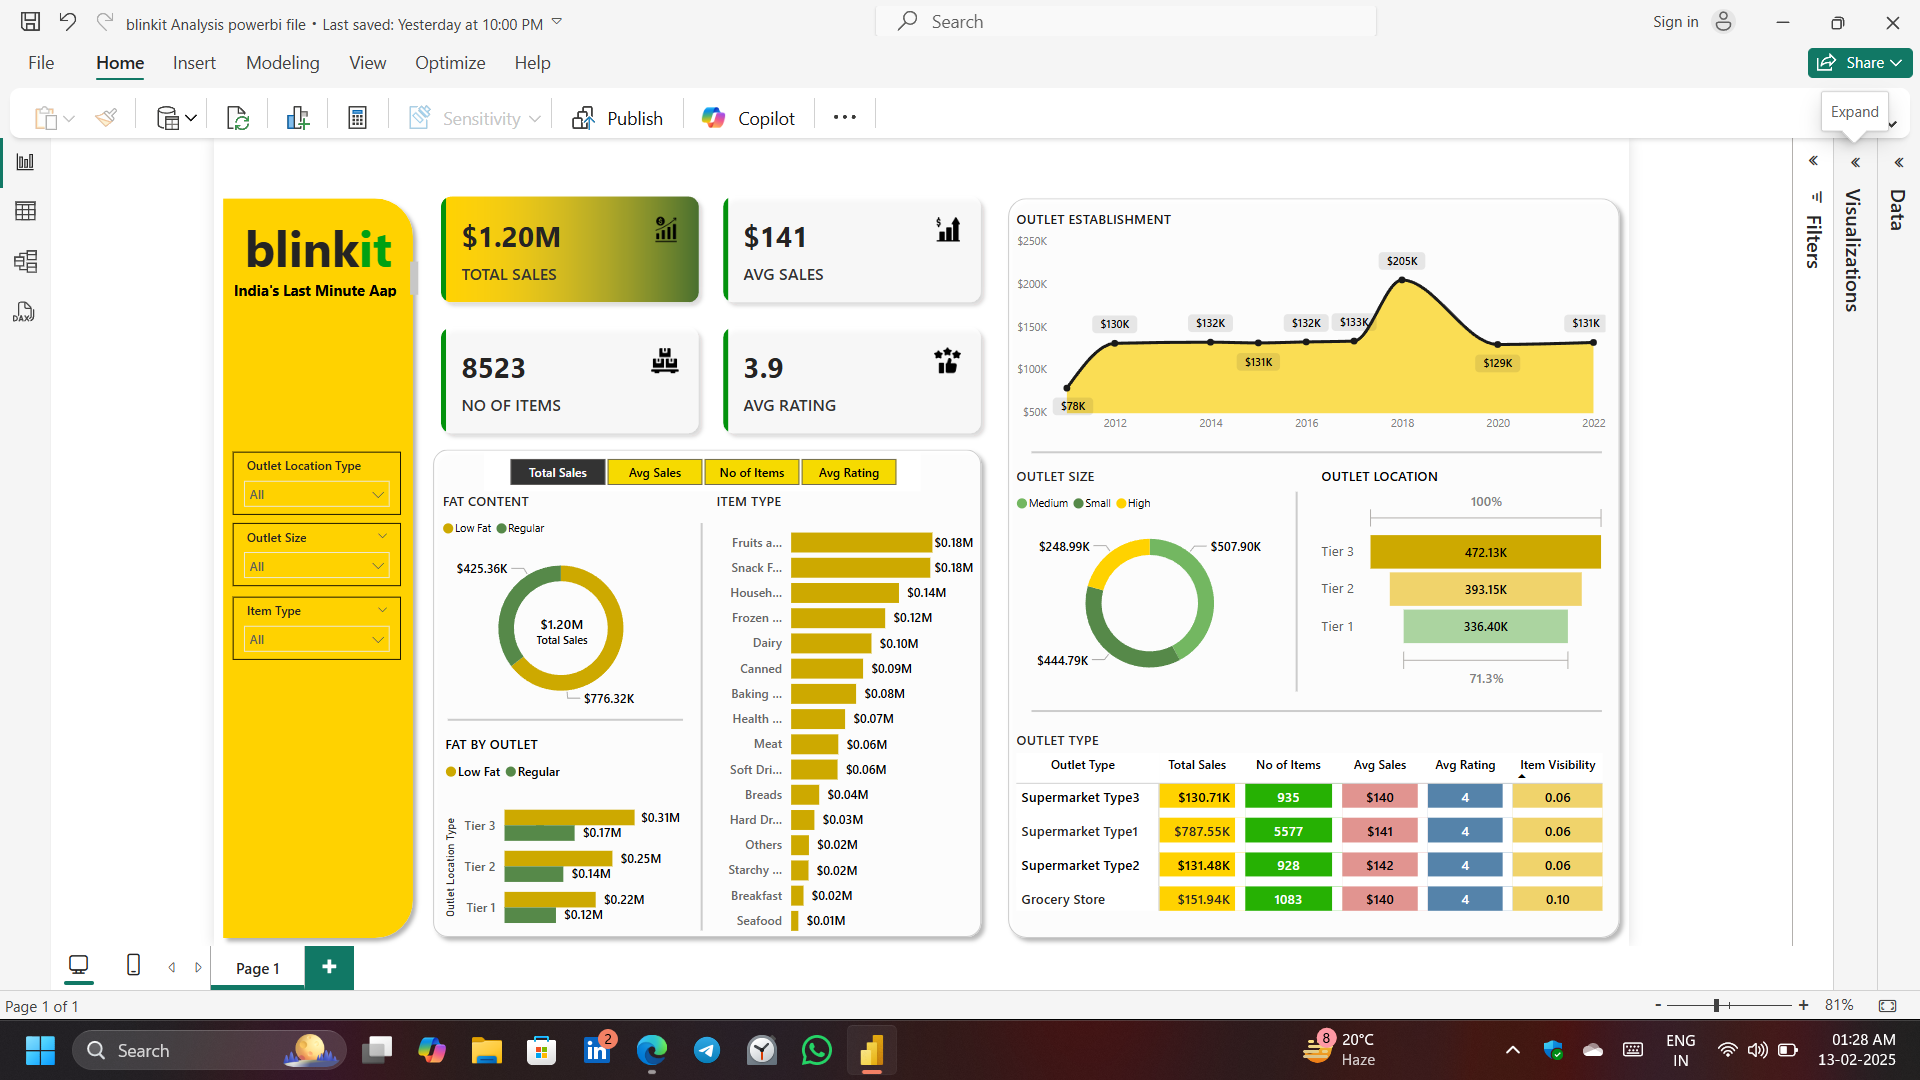

The dashboard page shown, as its layout file describes it:
{"tool":"powerbi","page":{"name":"Page 1","canvas":[1400,800],"ordinal":0},"visuals":[{"type":"shape","box":[0,50.4,205.9,750],"z":0},{"type":"textbox","box":[19.5,70.5,166.6,91.6],"z":1000},{"type":"textbox","box":[1.5,117.1,205.6,45],"z":2000},{"type":"cardVisual","fields":{"Data":["BlinkIT Grocery Data.Total Sales","BlinkIT Grocery Data.Avg Sales","BlinkIT Grocery Data.No of Items","BlinkIT Grocery Data.Avg Rating"]},"box":[207.2,40.9,569.9,269.9],"z":3000},{"type":"shape","box":[207.2,299.9,560.3,500.3],"z":4000},{"type":"donutChart","title":"FAT CONTENT","fields":{"Y":["BlinkIT Grocery Data.Total Sales"],"Category":["BlinkIT Grocery Data.Item Fat Content"]},"box":[220.9,350.4,244,225],"z":5000},{"type":"slicer","fields":{"Values":["Metrics.Metrics"]},"box":[267.2,310.8,432.2,39.5],"z":6000},{"type":"cardVisual","fields":{"Data":["BlinkIT Grocery Data.Total Sales"]},"box":[297.2,454,95.4,66.8],"z":7000},{"type":"clusteredBarChart","title":"FAT BY OUTLET","fields":{"Y":["BlinkIT Grocery Data.Total Sales"],"Category":["BlinkIT Grocery Data.Outlet Location Type"],"Series":["BlinkIT Grocery Data.Item Fat Content"]},"box":[223.6,590.3,242.7,210],"z":8000},{"type":"shape","box":[231.8,556.2,233.1,38.2],"z":9000},{"type":"shape","box":[467.6,380.4,30,403.5],"z":10000},{"type":"barChart","title":"ITEM TYPE","fields":{"Y":["BlinkIT Grocery Data.Total Sales"],"Category":["BlinkIT Grocery Data.Item Type"]},"box":[492.2,350.4,264.5,449.9],"z":11000},{"type":"shape","box":[777.1,50.4,623,749.8],"z":12000},{"type":"lineChart","title":"OUTLET ESTABLISHMENT","fields":{"Category":["BlinkIT Grocery Data.Outlet Establishment Year"],"Y":["BlinkIT Grocery Data.Total Sales"]},"box":[789.4,70.9,593.1,229],"z":13000},{"type":"shape","box":[808.5,291.8,564.4,38.2],"z":14000},{"type":"donutChart","title":"OUTLET SIZE","fields":{"Y":["BlinkIT Grocery Data.Total Sales"],"Category":["BlinkIT Grocery Data.Outlet Size"]},"box":[789.4,325.8,274,225],"z":15000},{"type":"funnel","title":"OUTLET LOCATION","fields":{"Category":["BlinkIT Grocery Data.Outlet Location Type"],"Y":["Sum(BlinkIT Grocery Data.Sales)"]},"box":[1090.7,325.8,291.8,225],"z":16000},{"type":"shape","box":[1056.6,350.4,30,197.7],"z":17000},{"type":"shape","box":[808.5,548.1,564.4,38.2],"z":18000},{"type":"pivotTable","title":"OUTLET TYPE","fields":{"Rows":["BlinkIT Grocery Data.Outlet Type"],"Values":["BlinkIT Grocery Data.Total Sales","BlinkIT Grocery Data.No of Items","BlinkIT Grocery Data.Avg Sales","BlinkIT Grocery Data.Avg Rating","Avg(BlinkIT Grocery Data.Item Visibility)"]},"box":[789.4,586.2,593.1,197.7],"z":19000},{"type":"slicer","fields":{"Values":["BlinkIT Grocery Data.Outlet Location Type"]},"box":[19.1,310.8,166.3,62.7],"z":20000},{"type":"slicer","fields":{"Values":["BlinkIT Grocery Data.Outlet Size"]},"box":[19.1,380.4,166.3,62.7],"z":21000},{"type":"slicer","fields":{"Values":["BlinkIT Grocery Data.Item Type"]},"box":[19.1,454,166.3,62.7],"z":22000}]}

Visuals, with their boxes on the page's 1400x800 design canvas (x1, y1, x2, y2). These are canvas units, not pixel positions in the 1920x1080 screenshot, which may show the page scaled, cropped or inside an application window:
shape: select_region(0, 50, 206, 800)
textbox: select_region(20, 70, 186, 162)
textbox: select_region(2, 117, 207, 162)
cardVisual - BlinkIT Grocery Data.Total Sales x BlinkIT Grocery Data.Avg Sales: select_region(207, 41, 777, 311)
shape: select_region(207, 300, 768, 800)
"FAT CONTENT" donutChart: select_region(221, 350, 465, 575)
slicer - Metrics.Metrics: select_region(267, 311, 699, 350)
cardVisual - BlinkIT Grocery Data.Total Sales: select_region(297, 454, 393, 521)
"FAT BY OUTLET" clusteredBarChart: select_region(224, 590, 466, 800)
shape: select_region(232, 556, 465, 594)
shape: select_region(468, 380, 498, 784)
"ITEM TYPE" barChart: select_region(492, 350, 757, 800)
shape: select_region(777, 50, 1400, 800)
"OUTLET ESTABLISHMENT" lineChart: select_region(789, 71, 1382, 300)
shape: select_region(808, 292, 1373, 330)
"OUTLET SIZE" donutChart: select_region(789, 326, 1063, 551)
"OUTLET LOCATION" funnel: select_region(1091, 326, 1382, 551)
shape: select_region(1057, 350, 1087, 548)
shape: select_region(808, 548, 1373, 586)
"OUTLET TYPE" pivotTable: select_region(789, 586, 1382, 784)
slicer - BlinkIT Grocery Data.Outlet Location Type: select_region(19, 311, 185, 374)
slicer - BlinkIT Grocery Data.Outlet Size: select_region(19, 380, 185, 443)
slicer - BlinkIT Grocery Data.Item Type: select_region(19, 454, 185, 517)
